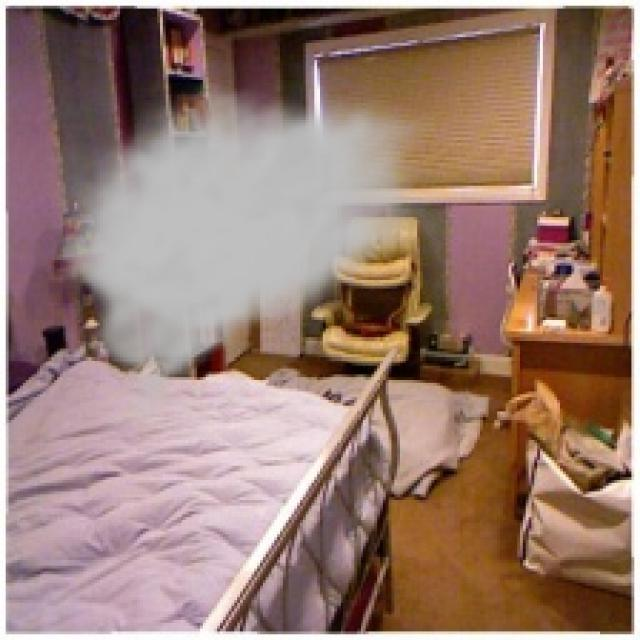Smoke: (46, 82, 440, 438)
